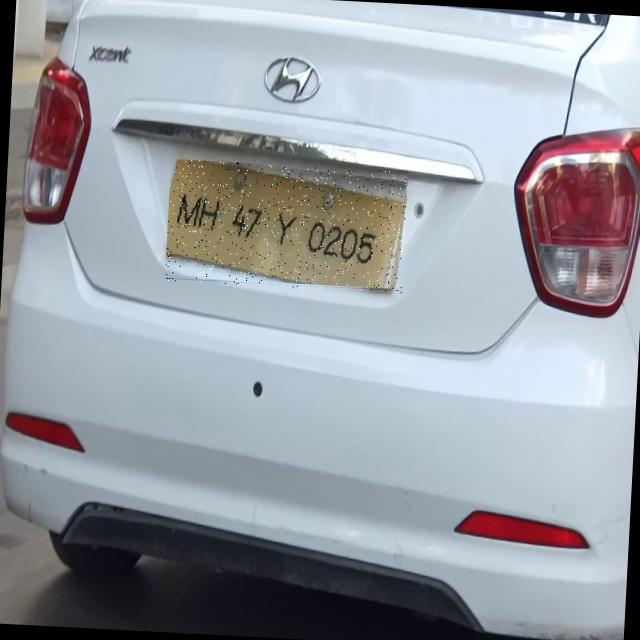Plate: (166, 161, 409, 295)
